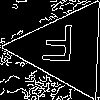F: (40, 24, 76, 71)
